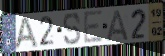2: (129, 7, 148, 42), (39, 15, 55, 47)
A: (13, 16, 40, 51), (105, 9, 130, 42)
E: (83, 9, 104, 46)
S: (62, 12, 82, 47)
